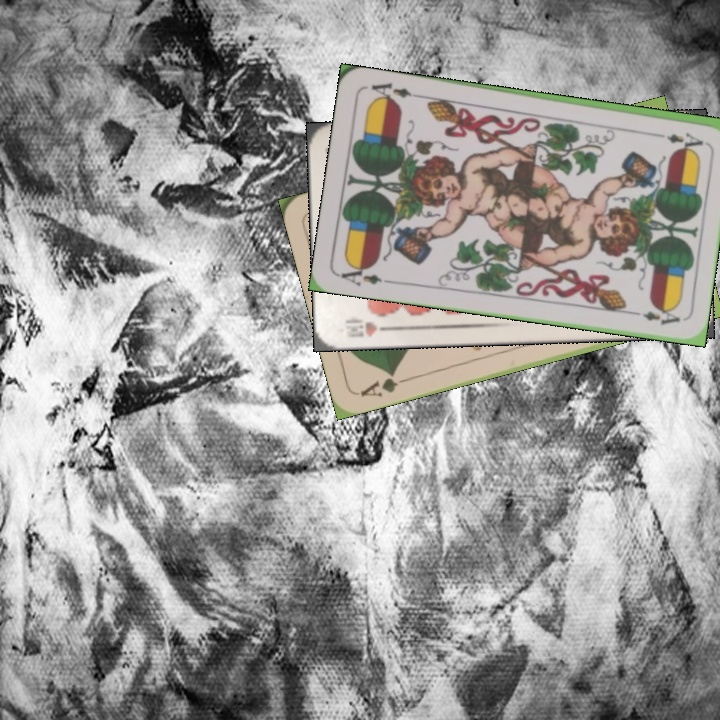EA: (335, 260, 395, 289), (649, 128, 706, 149)
GA: (356, 367, 413, 399)
H10: (341, 314, 397, 340)
